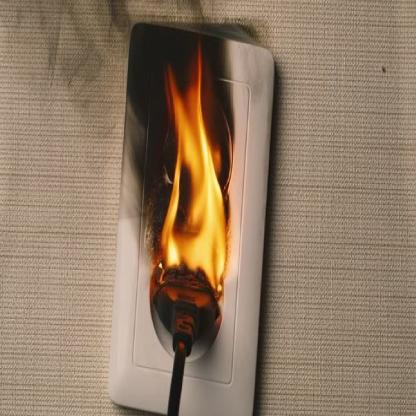fire: (156, 52, 229, 312)
smoke: (1, 5, 243, 273)
